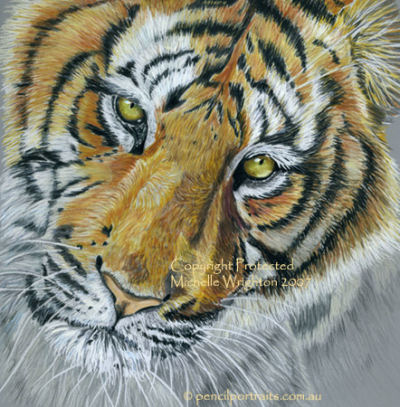Tigre: (35, 16, 370, 357)
